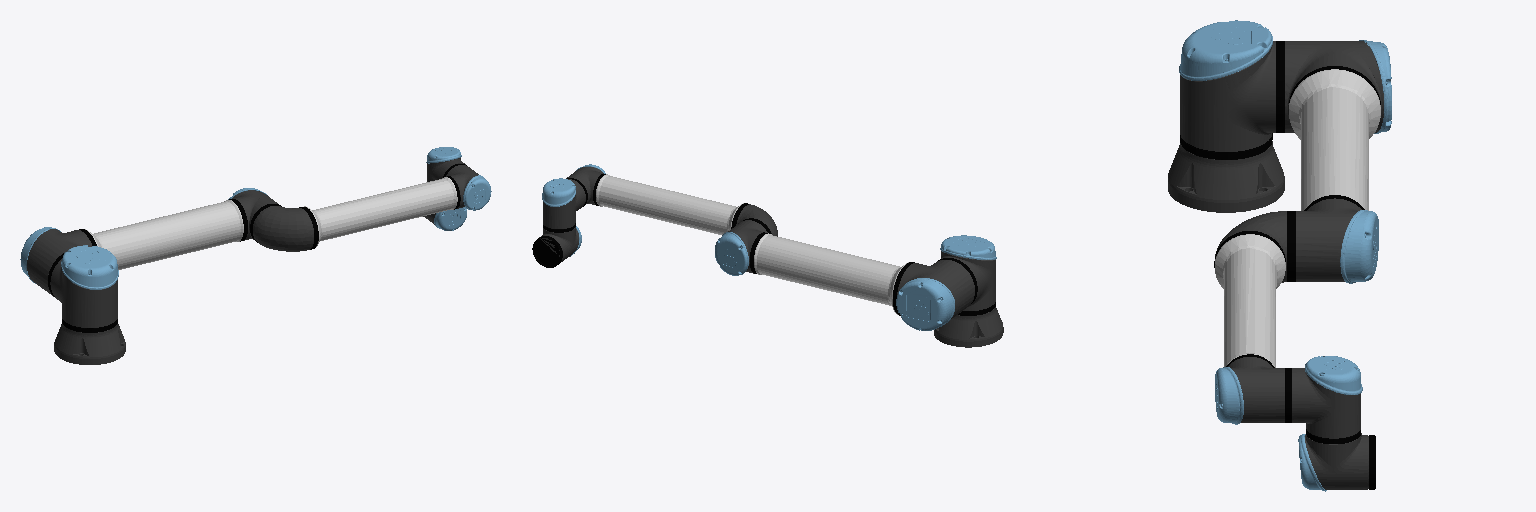
The robot description file, URDF, robot "ur10e":
<?xml version="1.0" ?>
<!-- =================================================================================== -->
<!-- |    This document was autogenerated by xacro from workspace/ros_dumpster/src/universal_robot/ur_e_description/urdf/ur10e_joint_limited_robot.urdf.xacro | -->
<!-- |    EDITING THIS FILE BY HAND IS NOT RECOMMENDED                                 | -->
<!-- =================================================================================== -->
<robot name="ur10e">
 <!--
  Author: [author]
  Contributers: [author], [author], [author]
-->

  <material name="BlackMat">
    <color rgba="0.03310248 0.03310248 0.03310248 1"/>
  </material>
  <material name="JointGrey">
    <color rgba="0.2784314 0.2784314 0.2784314 1"/>
  </material>
  <material name="URBlue">
    <color rgba="0.4901961 0.6784314 0.8 1"/>
  </material>
  <material name="LinkGrey">
    <color rgba="0.8203922 0.8203922 0.8203922 1"/>
  </material>
  <material name="panda_white">
    <color rgba="0.2784314 0.2784314 0.2784314 1"/>
  </material>

  <link name="base1">
    <visual>
      <geometry>
        <mesh filename="visual/base1.dae"/>
      </geometry>
      <material name="BlackMat"/>
    </visual>
    <inertial>
      <mass value="0.0"/>
      <origin rpy="0 0 0" xyz="0 0 0"/>
      <inertia ixx="0.0" ixy="0.0" ixz="0.0" iyy="0.0" iyz="0.0" izz="0.0"/>
    </inertial>
  </link>
  <joint name="base1-base_link_fixed_joint" type="fixed">
    <parent link="base1"/>
    <child link="base_link"/>
    <origin rpy="0 0 0" xyz="0 0 0"/>
  </joint>
  <link name="base_link">
    <visual>
      <geometry>
        <mesh filename="visual/base2.dae"/>
      </geometry>
      <material name="JointGrey"/>
    </visual>
    <collision>
      <geometry>
        <mesh filename="collision/base.stl"/>
      </geometry>
    </collision>
    <inertial>
      <!-- [author]: originally, mass was 4.0 -->
      <mass value="0.0"/> 
      <origin rpy="0 0 0" xyz="0.0 0.0 0.0"/>
      <inertia ixx="0.0061063308908" ixy="0.0" ixz="0.0" iyy="0.0061063308908" iyz="0.0" izz="0.01125"/>
    </inertial>
  </link>
  <joint name="shoulder_pan_joint" type="revolute">
    <parent link="base_link"/>
    <child link="shoulder_link"/>
    <origin rpy="0.0 0.0 0.0" xyz="0.0 0.0 0.181"/>
    <axis xyz="0 0 1"/>
    <limit effort="330.0" lower="-3.141592653589793" upper="3.141592653589793" velocity="3.14"/>
    <dynamics damping="0.0" friction="0.0"/>
  </joint>
  <link name="shoulder_link">
    <visual>
      <geometry>
        <mesh filename="visual/shoulder1.dae"/>
      </geometry>
      <material name="BlackMat"/>
    </visual>
    <collision>
      <geometry>
        <mesh filename="collision/shoulder.stl"/>
      </geometry>
    </collision>
    <inertial>
      <mass value="7.778"/>
      <origin rpy="0 0 0" xyz="0.0 0.0 0.0"/>
      <inertia ixx="0.03147431257693659" ixy="0.0" ixz="0.0" iyy="0.03147431257693659" iyz="0.0" izz="0.021875624999999996"/>
    </inertial>
  </link>
  <joint name="shoulder_link-shoulder2_fixed_joint" type="fixed">
    <parent link="shoulder_link"/>
    <child link="shoulder2"/>
  </joint>
  <link name="shoulder2">
    <visual>
      <geometry>
        <mesh filename="visual/shoulder2.dae"/>
      </geometry>
      <material name="URBlue"/>
    </visual>
    <inertial>
      <mass value="0.0"/>
      <origin rpy="0 0 0" xyz="0.0 0.0 0.0"/>
      <inertia ixx="0.0" ixy="0.0" ixz="0.0" iyy="0.0" iyz="0.0" izz="0.0"/>
    </inertial>
  </link> 
  <joint name="shoulder_link-shoulder3_fixed_joint" type="fixed">
    <parent link="shoulder_link"/>
    <child link="shoulder3"/>
  </joint>
  <link name="shoulder3">
    <visual>
      <geometry>
        <mesh filename="visual/shoulder3.dae"/>
      </geometry>
      <material name="JointGrey"/>
    </visual>
    <inertial>
      <mass value="0.0"/>
      <origin rpy="0 0 0" xyz="0.0 0.0 0.0"/>
      <inertia ixx="0.0" ixy="0.0" ixz="0.0" iyy="0.0" iyz="0.0" izz="0.0"/>
    </inertial>
  </link>
  <joint name="shoulder_lift_joint" type="revolute">
    <parent link="shoulder_link"/>
    <child link="upper_arm_link"/>
    <origin rpy="0.0 1.5707963267948966 0.0" xyz="0.0 0.176 0.0"/>
    <axis xyz="0 1 0"/>
    <limit effort="330.0" lower="-3.141592653589793" upper="3.141592653589793" velocity="3.14"/>
    <dynamics damping="0.0" friction="0.0"/>
  </joint>
  <link name="upper_arm_link">
    <visual>
      <geometry>
        <mesh filename="visual/upperarm1.dae"/>
      </geometry>
      <material name="URBlue"/>
    </visual>
    <collision>
      <geometry>
        <mesh filename="collision/upperarm.stl"/>
      </geometry>
    </collision>
    <inertial>
      <mass value="12.93"/>
      <origin rpy="0 0 0" xyz="0.0 0.0 0.3065"/>
      <inertia ixx="0.4230737407704359" ixy="0.0" ixz="0.0" iyy="0.4230737407704359" iyz="0.0" izz="0.03636562499999999"/>
    </inertial>
  </link>
  <joint name="upper_arm_link-upperarm2_fixed_joint" type="fixed">
    <parent link="upper_arm_link"/>
    <child link="upperarm2"/>
  </joint>
  <link name="upperarm2">
    <visual>
      <geometry>
        <mesh filename="visual/upperarm2.dae"/>
      </geometry>
      <material name="URBlue"/>
    </visual>
    <inertial>
      <mass value="0.0"/>
      <origin rpy="0 0 0" xyz="0.0 0.0 0.0"/>
      <inertia ixx="0.0" ixy="0.0" ixz="0.0" iyy="0.0" iyz="0.0" izz="0.0"/>
    </inertial>
  </link>
  <joint name="upper_arm_link-upperarm3_fixed_joint" type="fixed">
    <parent link="upper_arm_link"/>
    <child link="upperarm3"/>
  </joint>
  <link name="upperarm3">
    <visual>
      <geometry>
        <mesh filename="visual/upperarm3.dae"/>
      </geometry>
      <material name="JointGrey"/>
    </visual>
    <inertial>
      <mass value="0.0"/>
      <origin rpy="0 0 0" xyz="0.0 0.0 0.0"/>
      <inertia ixx="0.0" ixy="0.0" ixz="0.0" iyy="0.0" iyz="0.0" izz="0.0"/>
    </inertial>
  </link>
  <joint name="upper_arm_link-upperarm4_fixed_joint" type="fixed">
    <parent link="upper_arm_link"/>
    <child link="upperarm4"/>
  </joint>
  <link name="upperarm4">
    <visual>
      <geometry>
        <mesh filename="visual/upperarm4.dae"/>
      </geometry>
      <material name="BlackMat"/>
    </visual>
    <inertial>
      <mass value="0.0"/>
      <origin rpy="0 0 0" xyz="0.0 0.0 0.0"/>
      <inertia ixx="0.0" ixy="0.0" ixz="0.0" iyy="0.0" iyz="0.0" izz="0.0"/>
    </inertial>
  </link>
  <joint name="upper_arm_link-upperarm5_fixed_joint" type="fixed">
    <parent link="upper_arm_link"/>
    <child link="upperarm5"/>
  </joint>
  <link name="upperarm5">
    <visual>
      <geometry>
        <mesh filename="visual/upperarm5.dae"/>
      </geometry>
      <material name="JointGrey"/>
    </visual>
    <inertial>
      <mass value="0.0"/>
      <origin rpy="0 0 0" xyz="0.0 0.0 0.0"/>
      <inertia ixx="0.0" ixy="0.0" ixz="0.0" iyy="0.0" iyz="0.0" izz="0.0"/>
    </inertial>
  </link>
  <joint name="upper_arm_link-upperarm6_fixed_joint" type="fixed">
    <parent link="upper_arm_link"/>
    <child link="upperarm6"/>
  </joint>
  <link name="upperarm6">
    <visual>
      <geometry>
        <mesh filename="visual/upperarm6.dae"/>
      </geometry>
      <material name="BlackMat"/>
    </visual>
    <inertial>
      <mass value="0.0"/>
      <origin rpy="0 0 0" xyz="0.0 0.0 0.0"/>
      <inertia ixx="0.0" ixy="0.0" ixz="0.0" iyy="0.0" iyz="0.0" izz="0.0"/>
    </inertial>
  </link>
  <joint name="upper_arm_link-upperarm7_fixed_joint" type="fixed">
    <parent link="upper_arm_link"/>
    <child link="upperarm7"/>
  </joint>
  <link name="upperarm7">
    <visual>
      <geometry>
        <mesh filename="visual/upperarm7.dae"/>
      </geometry>
      <material name="BlackMat"/>
    </visual>
    <inertial>
      <mass value="0.0"/>
      <origin rpy="0 0 0" xyz="0.0 0.0 0.0"/>
      <inertia ixx="0.0" ixy="0.0" ixz="0.0" iyy="0.0" iyz="0.0" izz="0.0"/>
    </inertial>
  </link>
  <joint name="upper_arm_link-upperarm8_fixed_joint" type="fixed">
    <parent link="upper_arm_link"/>
    <child link="upperarm8"/>
  </joint>
  <link name="upperarm8">
    <visual>
      <geometry>
        <mesh filename="visual/upperarm8.dae"/>
      </geometry>
      <material name="LinkGrey"/>
    </visual>
    <inertial>
      <mass value="0.0"/>
      <origin rpy="0 0 0" xyz="0.0 0.0 0.0"/>
      <inertia ixx="0.0" ixy="0.0" ixz="0.0" iyy="0.0" iyz="0.0" izz="0.0"/>
    </inertial>
  </link>
  <joint name="elbow_joint" type="revolute">
    <parent link="upper_arm_link"/>
    <child link="forearm_link"/>
    <origin rpy="0.0 0.0 0.0" xyz="0.0 -0.137 0.613"/>
    <axis xyz="0 1 0"/>
    <limit effort="150.0" lower="-3.141592653589793" upper="3.141592653589793" velocity="3.14"/>
    <dynamics damping="0.0" friction="0.0"/>
  </joint>
  <link name="forearm_link">
    <visual>
      <geometry>
        <mesh filename="visual/forearm1.dae"/>
      </geometry>
      <material name="JointGrey"/>
    </visual>
    <collision>
      <geometry>
        <mesh filename="collision/forearm.stl"/>
      </geometry>
    </collision>
    <inertial>
      <mass value="3.87"/>
      <origin rpy="0 0 0" xyz="0.0 0.0 0.2855"/>
      <inertia ixx="0.11059036576383598" ixy="0.0" ixz="0.0" iyy="0.11059036576383598" iyz="0.0" izz="0.010884375"/>
    </inertial>
  </link>
  <joint name="forearm_link-forearm2_fixed_joint" type="fixed">
    <parent link="forearm_link"/>
    <child link="forearm2"/>
  </joint>
  <link name="forearm2">
    <visual>
      <geometry>
        <mesh filename="visual/forearm2.dae"/>
      </geometry>
      <material name="BlackMat"/>
    </visual>
    <inertial>
      <mass value="0.0"/>
      <origin rpy="0 0 0" xyz="0.0 0.0 0.0"/>
      <inertia ixx="0.0" ixy="0.0" ixz="0.0" iyy="0.0" iyz="0.0" izz="0.0"/>
    </inertial>
  </link>
  <joint name="forearm_link-forearm3_fixed_joint" type="fixed">
    <parent link="forearm_link"/>
    <child link="forearm3"/>
  </joint>
  <link name="forearm3">
    <visual>
      <geometry>
        <mesh filename="visual/forearm3.dae"/>
      </geometry>
      <material name="URBlue"/>
    </visual>
    <inertial>
      <mass value="0.0"/>
      <origin rpy="0 0 0" xyz="0.0 0.0 0.0"/>
      <inertia ixx="0.0" ixy="0.0" ixz="0.0" iyy="0.0" iyz="0.0" izz="0.0"/>
    </inertial>
  </link>
  <joint name="forearm_link-forearm4_fixed_joint" type="fixed">
    <parent link="forearm_link"/>
    <child link="forearm4"/>
  </joint>
  <link name="forearm4">
    <visual>
      <geometry>
        <mesh filename="visual/forearm4.dae"/>
      </geometry>
      <material name="JointGrey"/>
    </visual>
    <inertial>
      <mass value="0.0"/>
      <origin rpy="0 0 0" xyz="0.0 0.0 0.0"/>
      <inertia ixx="0.0" ixy="0.0" ixz="0.0" iyy="0.0" iyz="0.0" izz="0.0"/>
    </inertial>
  </link>
  <joint name="forearm_link-forearm5_fixed_joint" type="fixed">
    <parent link="forearm_link"/>
    <child link="forearm5"/>
  </joint>
  <link name="forearm5">
    <visual>
      <geometry>
        <mesh filename="visual/forearm5.dae"/>
      </geometry>
      <material name="BlackMat"/>
    </visual>
    <inertial>
      <mass value="0.0"/>
      <origin rpy="0 0 0" xyz="0.0 0.0 0.0"/>
      <inertia ixx="0.0" ixy="0.0" ixz="0.0" iyy="0.0" iyz="0.0" izz="0.0"/>
    </inertial>
  </link>
  <joint name="forearm_link-forearm6_fixed_joint" type="fixed">
    <parent link="forearm_link"/>
    <child link="forearm6"/>
  </joint>
  <link name="forearm6">
    <visual>
      <geometry>
        <mesh filename="visual/forearm6.dae"/>
      </geometry>
      <material name="BlackMat"/>
    </visual>
    <inertial>
      <mass value="0.0"/>
      <origin rpy="0 0 0" xyz="0.0 0.0 0.0"/>
      <inertia ixx="0.0" ixy="0.0" ixz="0.0" iyy="0.0" iyz="0.0" izz="0.0"/>
    </inertial>
  </link>
  <joint name="forearm_link-forearm7_fixed_joint" type="fixed">
    <parent link="forearm_link"/>
    <child link="forearm7"/>
  </joint>
  <link name="forearm7">
    <visual>
      <geometry>
        <mesh filename="visual/forearm7.dae"/>
      </geometry>
      <material name="LinkGrey"/>
    </visual>
    <inertial>
      <mass value="0.0"/>
      <origin rpy="0 0 0" xyz="0.0 0.0 0.0"/>
      <inertia ixx="0.0" ixy="0.0" ixz="0.0" iyy="0.0" iyz="0.0" izz="0.0"/>
    </inertial>
  </link>
  <joint name="wrist_1_joint" type="revolute">
    <parent link="forearm_link"/>
    <child link="wrist_1_link"/>
    <origin rpy="0.0 1.5707963267948966 0.0" xyz="0.0 0.0 0.571"/>
    <axis xyz="0 1 0"/>
    <limit effort="54.0" lower="-3.141592653589793" upper="3.141592653589793" velocity="6.28"/>
    <dynamics damping="0.0" friction="0.0"/>
  </joint>
  <link name="wrist_1_link">
    <visual>
      <geometry>
        <mesh filename="visual/wrist1_1.dae"/>
      </geometry>
      <material name="URBlue"/>
    </visual>
    <collision>
      <geometry>
        <mesh filename="collision/wrist1.stl"/>
      </geometry>
    </collision>
    <inertial>
      <mass value="1.96"/>
      <origin rpy="0 0 0" xyz="0.0 0.135 0.0"/>
      <inertia ixx="0.005108247956699999" ixy="0.0" ixz="0.0" iyy="0.005108247956699999" iyz="0.0" izz="0.005512499999999999"/>
    </inertial>
  </link>
  <joint name="wrist_1_link-wrist_1_2_fixed_joint" type="fixed">
    <parent link="wrist_1_link"/>
    <child link="wrist_1_2"/>
  </joint>
  <link name="wrist_1_2">
    <visual>
      <geometry>
        <mesh filename="visual/wrist1_2.dae"/>
      </geometry>
      <material name="BlackMat"/>
    </visual>
    <inertial>
      <mass value="0.0"/>
      <origin rpy="0 0 0" xyz="0.0 0.0 0"/>
      <inertia ixx="0.0" ixy="0.0" ixz="0.0" iyy="0.0" iyz="0.0" izz="0.0"/>
    </inertial>
  </link>
  <joint name="wrist_1_link-wrist_1_3_fixed_joint" type="fixed">
    <parent link="wrist_1_link"/>
    <child link="wrist_1_3"/>
  </joint>
  <link name="wrist_1_3">
    <visual>
      <geometry>
        <mesh filename="visual/wrist1_3.dae"/>
      </geometry>
      <material name="JointGrey"/>
    </visual>
    <inertial>
      <mass value="0.0"/>
      <origin rpy="0 0 0" xyz="0.0 0.0 0"/>
      <inertia ixx="0.0" ixy="0.0" ixz="0.0" iyy="0.0" iyz="0.0" izz="0.0"/>
    </inertial>
  </link>
  <joint name="wrist_2_joint" type="revolute">
    <parent link="wrist_1_link"/>
    <child link="wrist_2_link"/>
    <origin rpy="0.0 0.0 0.0" xyz="0.0 0.135 0.0"/>
    <axis xyz="0 0 1"/>
    <limit effort="54.0" lower="-3.141592653589793" upper="3.141592653589793" velocity="6.28"/>
    <dynamics damping="0.0" friction="0.0"/>
  </joint>
  <link name="wrist_2_link">
    <visual>
      <geometry>
        <mesh filename="visual/wrist2_1.dae"/>
      </geometry>
      <material name="URBlue"/>
    </visual>
    <collision>
      <geometry>
        <mesh filename="collision/wrist2.stl"/>
      </geometry>
    </collision>
    <inertial>
      <mass value="1.96"/>
      <origin rpy="0 0 0" xyz="0.0 0.0 0.12"/>
      <inertia ixx="0.005108247956699999" ixy="0.0" ixz="0.0" iyy="0.005108247956699999" iyz="0.0" izz="0.005512499999999999"/>
    </inertial>
  </link>
  <joint name="wrist_2_link-wrist_2_2_fixed_joint" type="fixed">
    <parent link="wrist_2_link"/>
    <child link="wrist_2_2"/>
  </joint>
  <link name="wrist_2_2">
    <visual>
      <geometry>
        <mesh filename="visual/wrist2_2.dae"/>
      </geometry>
      <material name="BlackMat"/>
    </visual>
    <inertial>
      <mass value="0.0"/>
      <origin rpy="0 0 0" xyz="0.0 0.0 0"/>
      <inertia ixx="0.0" ixy="0.0" ixz="0.0" iyy="0.0" iyz="0.0" izz="0.0"/>
    </inertial>
  </link>
  <joint name="wrist_2_link-wrist_2_3_fixed_joint" type="fixed">
    <parent link="wrist_2_link"/>
    <child link="wrist_2_3"/>
  </joint>
  <link name="wrist_2_3">
    <visual>
      <geometry>
        <mesh filename="visual/wrist2_3.dae"/>
      </geometry>
      <material name="JointGrey"/>
    </visual>
    <inertial>
      <mass value="0.0"/>
      <origin rpy="0 0 0" xyz="0.0 0.0 0"/>
      <inertia ixx="0.0" ixy="0.0" ixz="0.0" iyy="0.0" iyz="0.0" izz="0.0"/>
    </inertial>
  </link>
  <joint name="wrist_3_joint" type="revolute">
    <parent link="wrist_2_link"/>
    <child link="wrist_3_link"/>
    <origin rpy="0.0 0.0 0.0" xyz="0.0 0.0 0.12"/>
    <axis xyz="0 1 0"/>
    <limit effort="54.0" lower="-3.141592653589793" upper="3.141592653589793" velocity="6.28"/>
    <dynamics damping="0.0" friction="0.0"/>
  </joint>
  <link name="wrist_3_link">
    <visual>
      <geometry>
        <mesh filename="visual/wrist3.dae"/>
      </geometry>
      <material name="LinkGrey"/>
    </visual>
    <collision>
      <geometry>
        <mesh filename="collision/wrist3.stl"/>
      </geometry>
    </collision>
    <inertial>
      <mass value="0.202"/>
      <origin rpy="1.5707963267948966 0 0" xyz="0.0 0.092 0.0"/>
      <inertia ixx="0.04434577559500002" ixy="0.0" ixz="0.0" iyy="0.04434577559500002" iyz="0.0" izz="0.00020452500000000002"/>
    </inertial>
  </link>

  <link name="tool0">
    <!-- [author]: I added inertial -->
    <inertial>
      <mass value="0.0"/>
      <origin rpy="0 0 0" xyz="0.0 0.0 0.0"/>
      <inertia ixx="0.0" ixy="0.0" ixz="0.0" iyy="0.0" iyz="0.0" izz="0.0"/>
    </inertial>
  </link>
<!-- -1.5707963267948966 -->
  <joint name="wrist_3_link-tool0_fixed_joint" type="fixed">
    <origin rpy="0 3.141592653589793 0" xyz="0 0.117 0"/>
    <parent link="wrist_3_link"/>
    <child link="tool0"/>
  </joint>

  <joint name="panda_hand_joint" type="fixed">
    <parent link="tool0"/>
    <child link="panda_hand"/>
    <origin rpy="-1.57 0 0" xyz="0 0 0"/>
  </joint>

  <link name="panda_hand">
    <inertial>
      <origin rpy="0 0 0" xyz="0 0 0.04"/>
       <mass value=".81"/>
       <inertia ixx="0.1" ixy="0" ixz="0" iyy="0.1" iyz="0" izz="0.1"/>
    </inertial>
    <visual>
      <geometry>
        <mesh filename="package://visual/hand.obj"/>
      </geometry>
      <material name="panda_white"/>
    </visual>
    <collision>
      <geometry>
        <mesh filename="package://collision/hand.obj"/>
      </geometry>
      <material name="panda_white"/>
    </collision>
  </link>
  <link name="panda_leftfinger">
    <contact>
      <friction_anchor/>
      <stiffness value="30000.0"/>
      <damping value="1000.0"/>
      <spinning_friction value="0.1"/>
      <lateral_friction value="1.0"/>
    </contact>
    <inertial>
      <origin rpy="0 0 0" xyz="0 0.01 0.02"/>
       <mass value="0.1"/>
       <inertia ixx="0.1" ixy="0" ixz="0" iyy="0.1" iyz="0" izz="0.1"/>
    </inertial>
    <visual>
      <geometry>
        <mesh filename="package://visual/finger.obj"/>
      </geometry>
      <material name="panda_white"/>
    </visual>
    <collision>
      <geometry>
        <mesh filename="package://collision/finger.obj"/>
      </geometry>
      <material name="panda_white"/>
    </collision>
  </link>
  <link name="panda_rightfinger">
    <contact>
      <friction_anchor/>
      <stiffness value="30000.0"/>
      <damping value="1000.0"/>
      <spinning_friction value="0.1"/>
      <lateral_friction value="1.0"/>
    </contact>
    <inertial>
      <origin rpy="0 0 0" xyz="0 -0.01 0.02"/>
       <mass value="0.1"/>
       <inertia ixx="0.1" ixy="0" ixz="0" iyy="0.1" iyz="0" izz="0.1"/>
    </inertial>
    <visual>
      <origin rpy="0 0 3.14159265359" xyz="0 0 0"/>
      <geometry>
        <mesh filename="package://visual/finger.obj"/>
      </geometry>
      <material name="panda_white"/>
    </visual>
    <collision>
      <origin rpy="0 0 3.14159265359" xyz="0 0 0"/>
      <geometry>
        <mesh filename="package://collision/finger.obj"/>
      </geometry>
      <material name="panda_white"/>
    </collision>
  </link>
  <joint name="panda_finger_joint1" type="prismatic">
    <parent link="panda_hand"/>
    <child link="panda_leftfinger"/>
    <origin rpy="0 0 0" xyz="0 0 0.0584"/>
    <axis xyz="0 1 0"/>
    <limit effort="20" lower="0.0" upper="0.04" velocity="0.2"/>
  </joint>
  <joint name="panda_finger_joint2" type="prismatic">
    <parent link="panda_hand"/>
    <child link="panda_rightfinger"/>
    <origin rpy="0 0 0" xyz="0 0 0.0584"/>
    <axis xyz="0 -1 0"/>
    <limit effort="20" lower="0.0" upper="0.04" velocity="0.2"/>
    <mimic joint="panda_finger_joint1"/>
  </joint>
  <link name="panda_grasptarget">
    <inertial>
      <origin rpy="0 0 0" xyz="0 0 0"/>
       <mass value="0.0"/>
       <inertia ixx="0.1" ixy="0" ixz="0" iyy="0.1" iyz="0" izz="0.1"/>
    </inertial>
  </link>
  <joint name="panda_grasptarget_hand" type="fixed">
    <parent link="panda_hand"/>
    <child link="panda_grasptarget"/>
    <origin rpy="0 0 0" xyz="0 0 0.105"/>
  </joint>
</robot>

--- What the picture shows (computed from the rendered views, not written in the file) ---
Views: 3 orthographic renders of the robot side by side, from view 1: azimuth 30°, elevation 25°; view 2: azimuth 150°, elevation 25°; view 3: azimuth 270°, elevation 25°.
Robot: ur10e — 32 links, 31 joints (6 revolute, 2 prismatic, 23 fixed); root link base1; default pose: all joints at 0.
Links seen in each view (by area): view 1: upperarm8, forearm7, shoulder3, forearm_link, base_link, shoulder2, upperarm5, forearm3, upperarm3, wrist_2_link; view 2: upperarm8, forearm7, upper_arm_link, base_link, upperarm5, shoulder3, upperarm2, shoulder2, wrist_1_3, wrist_1_link, wrist_2_2, wrist_2_3 (+2 smaller); view 3: upperarm8, shoulder3, forearm7, base_link, shoulder2, upperarm3, upperarm5, wrist_1_3, forearm4, wrist_2_3, upperarm2, wrist_1_link (+7 smaller).
Link boxes in pixels (<box>): upperarm8: <box>85,200,243,269</box>; forearm7: <box>304,177,457,246</box>; shoulder3: <box>50,259,117,327</box>; forearm_link: <box>253,206,313,251</box>; base_link: <box>54,324,125,364</box>; shoulder2: <box>61,245,118,289</box>; upperarm5: <box>27,229,91,296</box>; forearm3: <box>463,175,491,210</box>; upperarm3: <box>232,190,277,240</box>; wrist_2_link: <box>434,207,466,230</box>; upperarm8: <box>754,233,908,314</box>; forearm7: <box>596,174,743,234</box>; upper_arm_link: <box>896,278,954,330</box>; base_link: <box>934,307,1003,347</box>; upperarm5: <box>897,260,974,318</box>; shoulder3: <box>941,251,995,310</box>; upperarm2: <box>715,232,748,275</box>; shoulder2: <box>940,235,996,259</box>; wrist_1_3: <box>543,179,585,228</box>; wrist_1_link: <box>542,178,575,206</box>; wrist_2_2: <box>532,236,562,267</box>; wrist_2_3: <box>539,227,578,261</box>; upperarm8: <box>1289,69,1380,210</box>; shoulder3: <box>1180,41,1275,151</box>; forearm7: <box>1215,234,1285,367</box>; base_link: <box>1168,141,1284,212</box>; shoulder2: <box>1179,20,1272,80</box>; upperarm3: <box>1296,198,1361,281</box>; upperarm5: <box>1285,41,1383,132</box>; wrist_1_3: <box>1292,368,1360,438</box>; forearm4: <box>1228,357,1284,422</box>; wrist_2_3: <box>1305,433,1368,489</box>; upperarm2: <box>1340,210,1378,283</box>; wrist_1_link: <box>1305,356,1362,394</box>.
Bounding box of the posed robot: 1.33 × 0.3642 × 0.2749 m (x, y, z).
Meshes: 29 distinct files referenced, 26 mesh visuals loaded (26 Collada DAE); not drawn: 4 (reference not matched to a file when rendering).